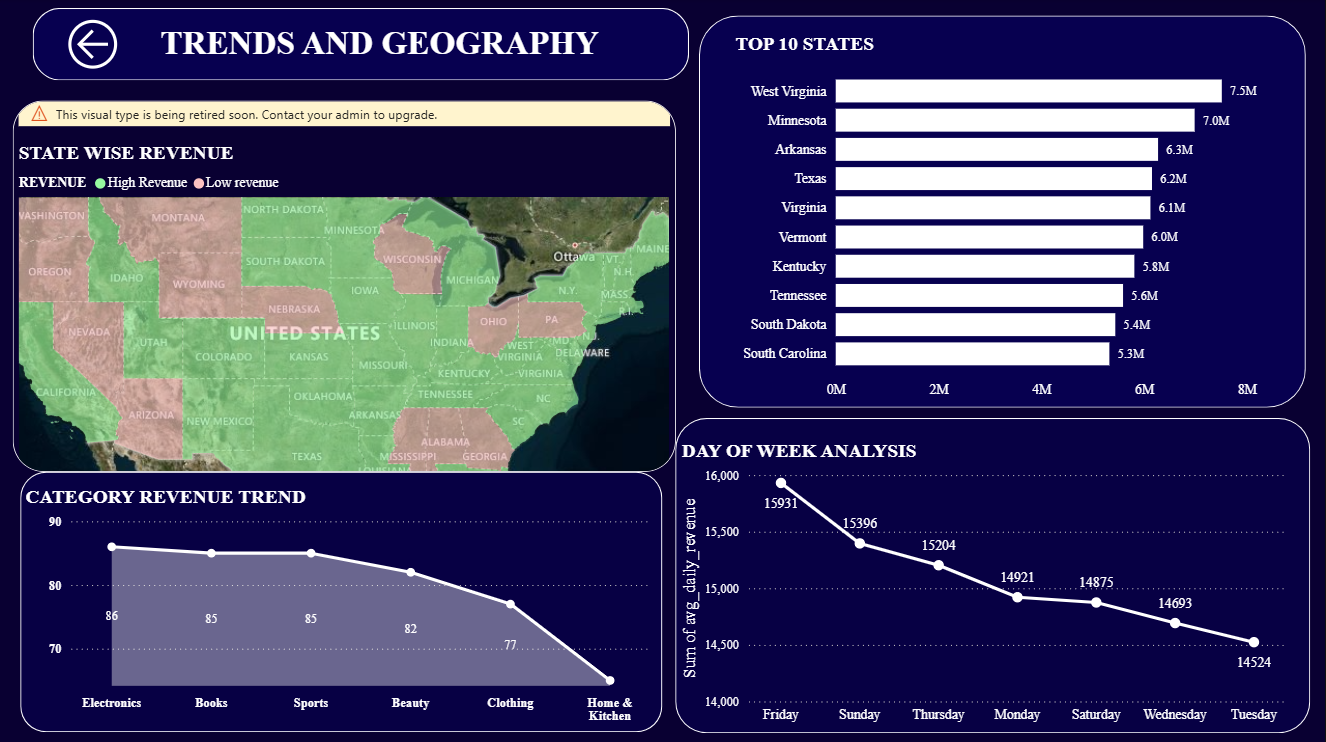

The dashboard page shown, as its layout file describes it:
{"tool":"powerbi","page":{"name":"Page 4","canvas":[1280,720],"ordinal":3},"visuals":[{"type":"shape","box":[32.6,9.7,633.4,70],"z":0},{"type":"shape","box":[675.7,17.1,585.7,378.6],"z":1000,"group":"g2"},{"type":"filledMap","title":"STATE WISE REVENUE","fields":{"Category":["query6_geographic_analysis.state"],"Series":["query6_geographic_analysis.Custom"]},"box":[12.9,98.6,640,358.6],"z":1000},{"type":"textbox","box":[150.8,19.3,534.5,60.3],"z":2000},{"type":"shape","box":[20.3,457.1,619.6,251.4],"z":2000,"group":"g1"},{"type":"actionButton","box":[60.3,14.5,101.3,60.3],"z":3000},{"type":"shape","box":[652.9,405.7,612.9,304.3],"z":3000,"group":"g3"},{"type":"group","id":"g1","title":"Group 1","box":[20,457.1,620,251.4],"z":4000},{"type":"group","id":"g2","title":"Group 2","box":[675.7,17.1,585.7,378.6],"z":5000},{"type":"clusteredBarChart","title":"TOP 10 STATES","fields":{"Category":["query6_geographic_analysis.state"],"Y":["Sum(query6_geographic_analysis.total_revenue)"]},"box":[705.4,34,527.9,361.6],"z":5000,"group":"g2"},{"type":"group","id":"g3","title":"Group 3","box":[652.9,405.7,612.9,304.3],"z":6000},{"type":"lineChart","title":"DAY OF WEEK ANALYSIS","fields":{"Category":["query9_day_of_week_pattern.day_name"],"Y":["Sum(query9_day_of_week_pattern.avg_daily_revenue)"]},"box":[653.5,425.9,593,283.3],"z":6000,"group":"g3"},{"type":"stackedAreaChart","title":"CATEGORY REVENUE TREND","fields":{"Category":["query8_product_profitability.category"],"Y":["CountNonNull(query8_product_profitability.revenue)"]},"box":[20,470.5,620,237.6],"z":7000,"group":"g1"}]}

Visuals, with their boxes in screenshot pixels (x1, y1, x2, y2), scaled from the page's 1280x720 canvas onto the 1326x742 screenshot:
shape: (x1=34, y1=10, x2=690, y2=82)
shape: (x1=700, y1=18, x2=1307, y2=408)
"STATE WISE REVENUE" filledMap: (x1=13, y1=102, x2=676, y2=471)
textbox: (x1=156, y1=20, x2=710, y2=82)
shape: (x1=21, y1=471, x2=663, y2=730)
actionButton: (x1=62, y1=15, x2=167, y2=77)
shape: (x1=676, y1=418, x2=1311, y2=732)
"Group 1" group: (x1=21, y1=471, x2=663, y2=730)
"Group 2" group: (x1=700, y1=18, x2=1307, y2=408)
"TOP 10 STATES" clusteredBarChart: (x1=731, y1=35, x2=1278, y2=408)
"Group 3" group: (x1=676, y1=418, x2=1311, y2=732)
"DAY OF WEEK ANALYSIS" lineChart: (x1=677, y1=439, x2=1291, y2=731)
"CATEGORY REVENUE TREND" stackedAreaChart: (x1=21, y1=485, x2=663, y2=730)
